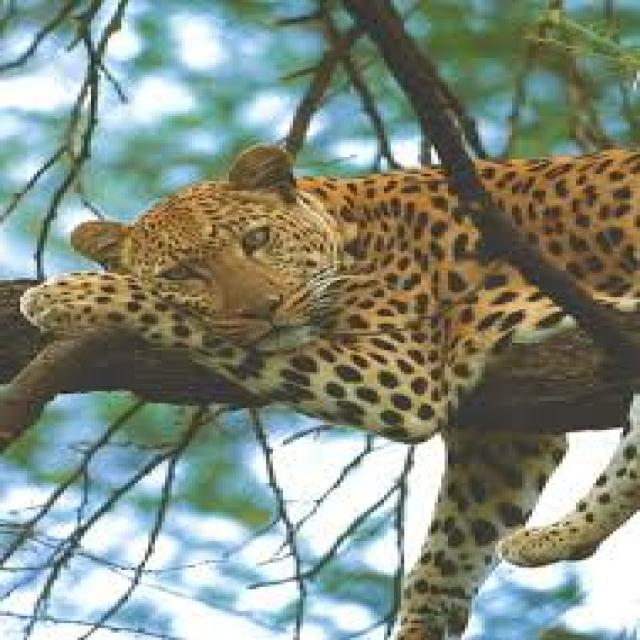Jaguar: (17, 142, 640, 640)
